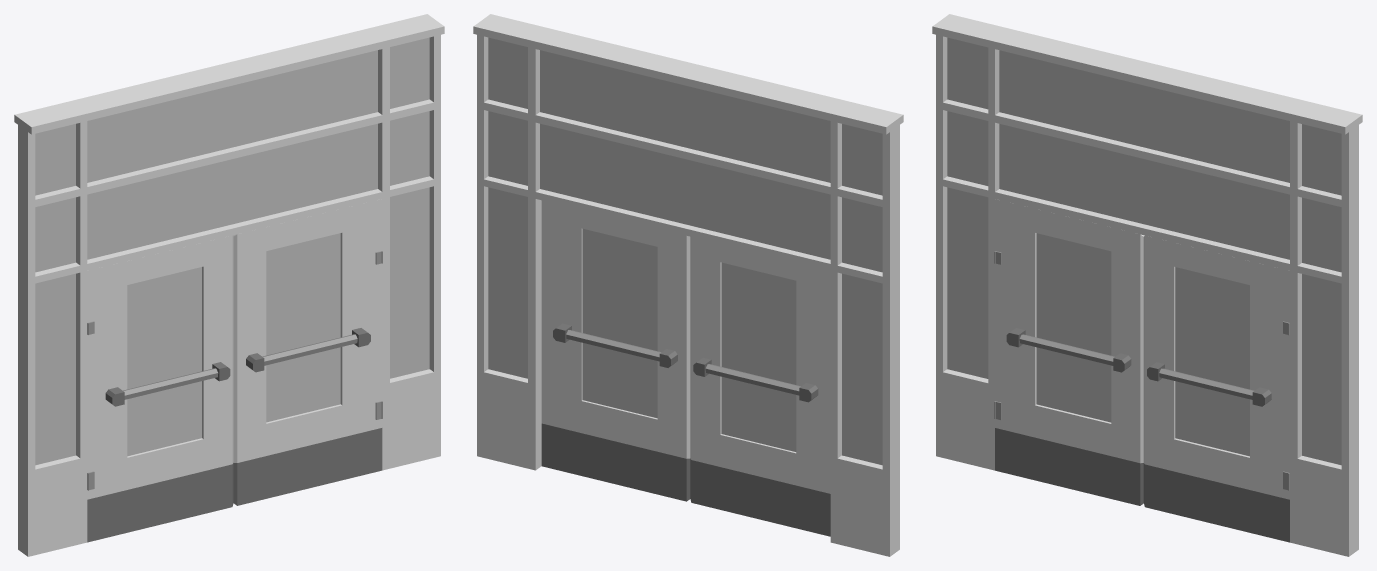
Rendered from M_WallDoor350x350DWhite100-1.fbx.
3 views of the same model, side by side, from view 1: azimuth 30°, elevation 25°; view 2: azimuth 150°, elevation 25°; view 3: azimuth 330°, elevation 25° (orthographic).
Parts seen in each view (by area): view 1: M_WallDoor350x350DWhite100-1, M_Door02, M_Door01; view 2: M_WallDoor350x350DWhite100-1, M_Door02, M_Door01; view 3: M_WallDoor350x350DWhite100-1, M_Door01, M_Door02.
Part boxes in pixels (<box>): M_WallDoor350x350DWhite100-1: <box>14,14,444,556</box>; M_Door02: <box>233,199,382,505</box>; M_Door01: <box>87,235,233,542</box>; M_WallDoor350x350DWhite100-1: <box>473,14,903,556</box>; M_Door02: <box>541,200,690,501</box>; M_Door01: <box>690,236,830,536</box>; M_WallDoor350x350DWhite100-1: <box>932,14,1362,556</box>; M_Door01: <box>994,199,1144,505</box>; M_Door02: <box>1143,235,1289,542</box>.
Size of what is drawn, in the model's own units: 350 by 30.07 by 350.
